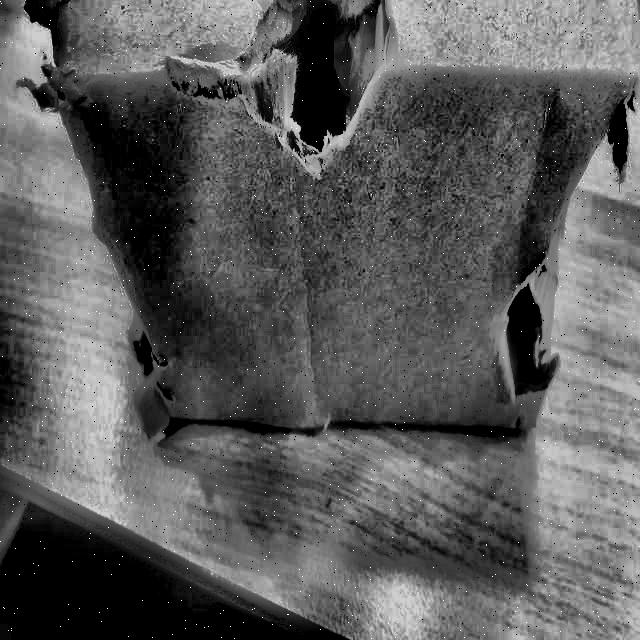box: (42, 0, 640, 442)
hole: (168, 1, 413, 175), (499, 247, 558, 424)
